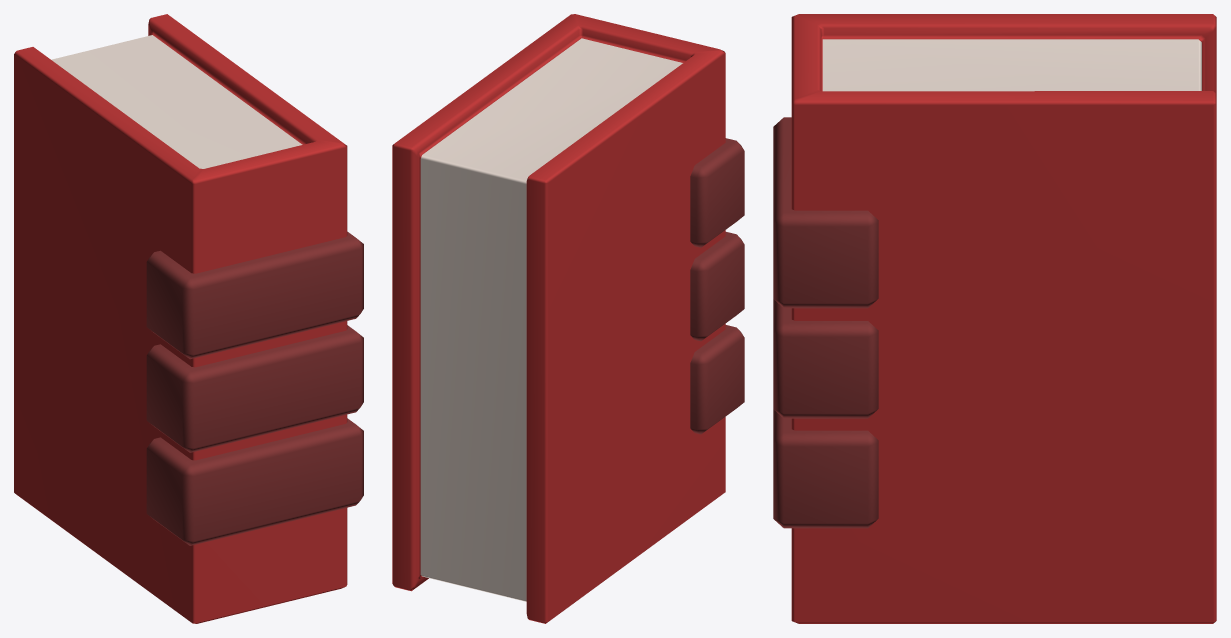
Rendered from Book_16.glb.
3 renders of one model, left to right at view 1: azimuth 30°, elevation 25°; view 2: azimuth 150°, elevation 25°; view 3: azimuth 270°, elevation 25°, orthographic. The views are drawn at different scales.
Visible parts, largest first — view 1: Book_16; view 2: Book_16; view 3: Book_16.
Part boxes in pixels (x1,y1,x2,y2): Book_16: [14, 14, 363, 623]; Book_16: [392, 14, 744, 623]; Book_16: [773, 14, 1216, 623].
Bounding box in the file's own units: 0.1681 × 0.3928 × 0.3017.
Materials: 1 (1 with a texture image).
